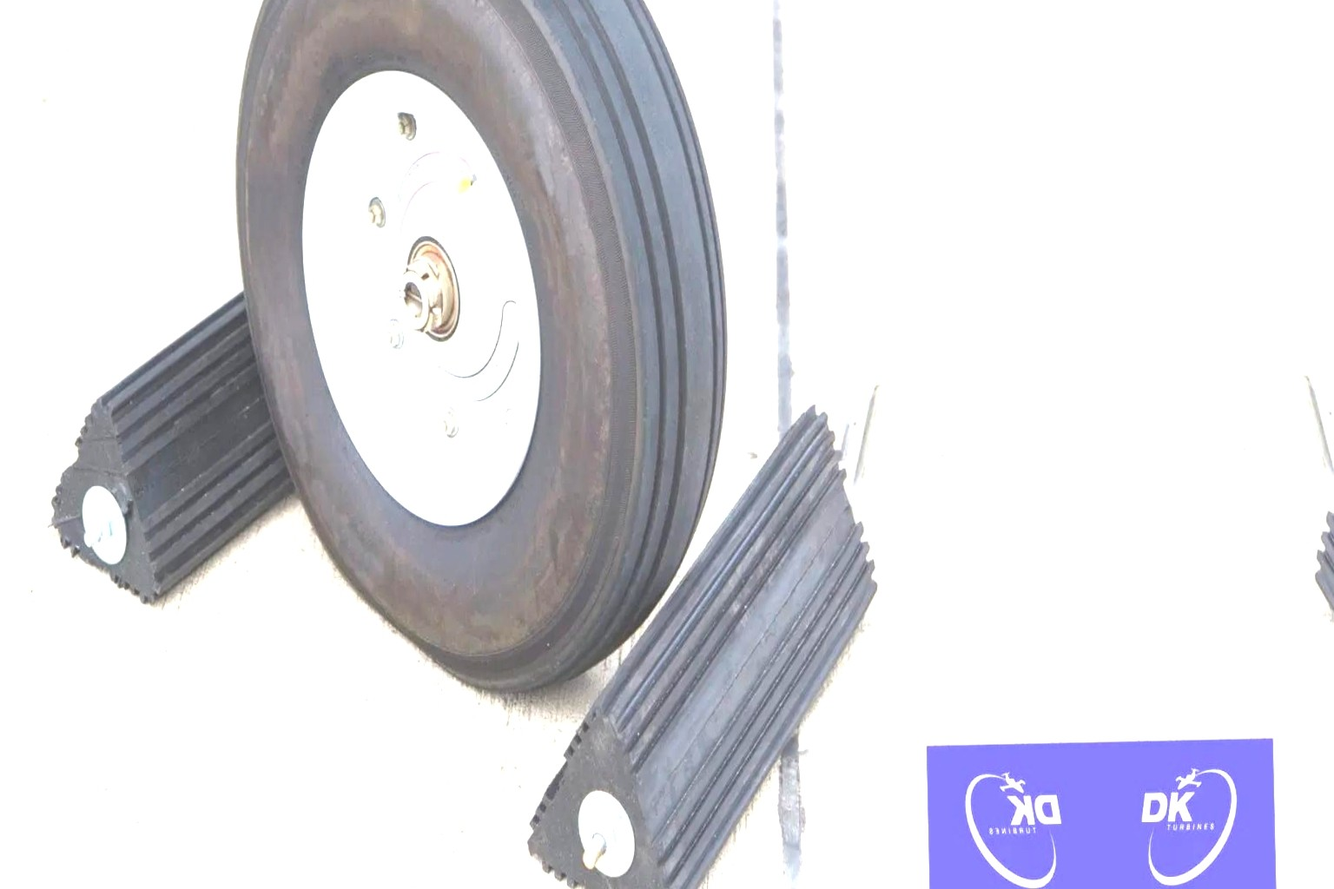chock: (515, 400, 887, 889), (43, 269, 394, 608)
wheel: (225, 0, 738, 707)
